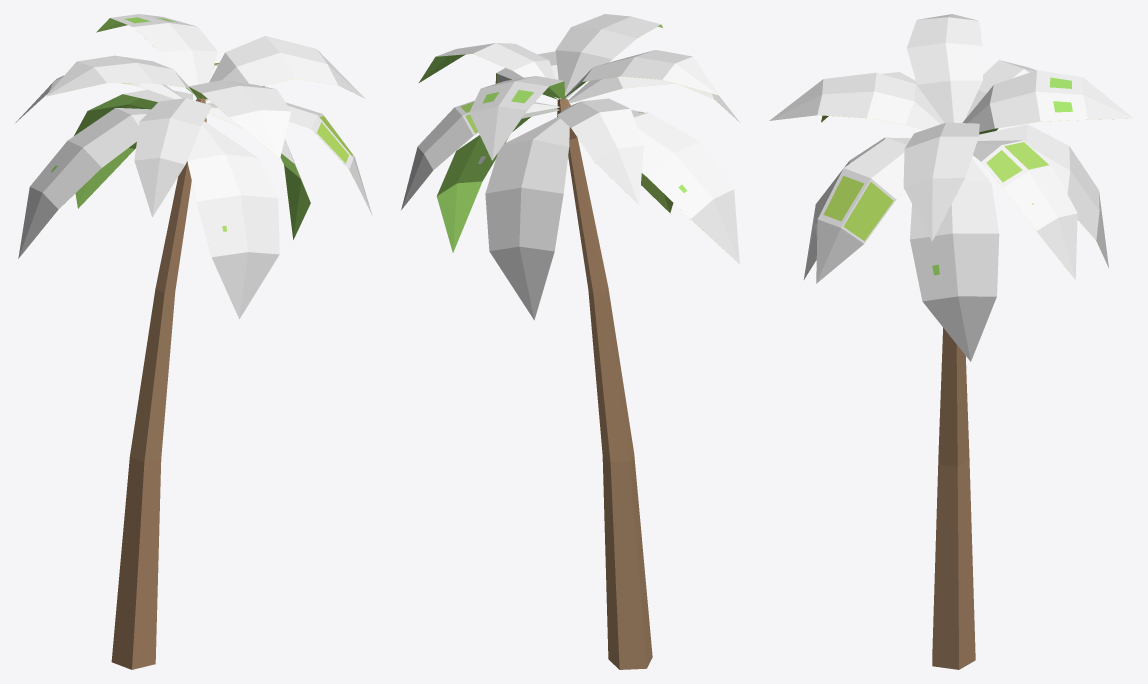
File: Palm_Tree_l_Snow_02.fbx
3 renders of one model, left to right at view 1: azimuth 30°, elevation 25°; view 2: azimuth 150°, elevation 25°; view 3: azimuth 270°, elevation 25°, orthographic. The views are drawn at different scales.
Parts seen in each view (by area): view 1: Palm_Tree_l_Snow_02; view 2: Palm_Tree_l_Snow_02; view 3: Palm_Tree_l_Snow_02.
Boxes of the visible parts, left/top/right/bottom form: Palm_Tree_l_Snow_02: left=15, top=14, right=372, bottom=669; Palm_Tree_l_Snow_02: left=401, top=14, right=739, bottom=669; Palm_Tree_l_Snow_02: left=769, top=14, right=1133, bottom=669.
Size of the model in its own units: 499 by 864 by 459.
